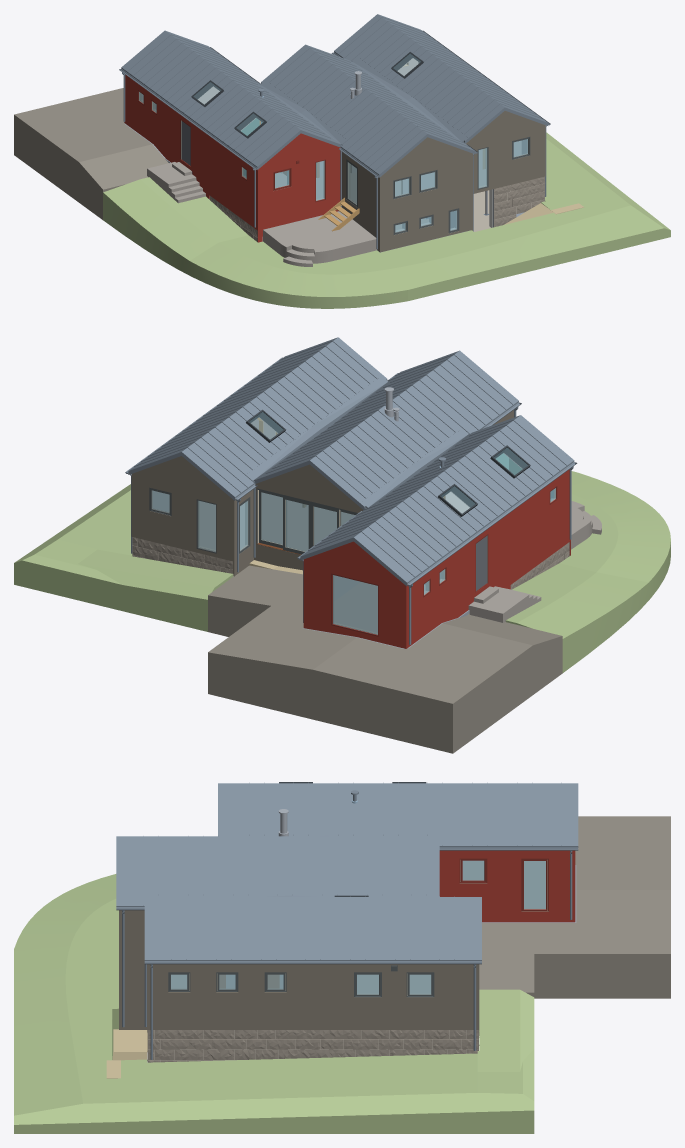
The model's file is trebodar.glb.
3 renders of one model, top to bottom at view 1: azimuth 30°, elevation 25°; view 2: azimuth 150°, elevation 25°; view 3: azimuth 270°, elevation 25°, orthographic. The views are drawn at different scales.
Parts seen in each view (by area): view 1: Uppfyllnad, Berg, 2NO-PA01, 1SO-PA01, 1NO-PA01, 3NO-PA01, Sovrumsavsats, 2SO-PA01, DB2-RD, DB4-RD, E-AV, BP-B (+8 smaller); view 2: Berg, Uppfyllnad, 1SO-PA01, 3SV-PA01, 1SV-PA01, MB-B, 2SV-PA01, 1SV-F1-GLAS, DB2-RD, DB4-RD, E-AV, 2SV-D1-SV-GLAS (+28 smaller); view 3: Uppfyllnad, Berg, 3NV-PA01, 1NV-PA01, 2NV-PA01, MB-B, FK-V9, 1NV-D1-GLAS, 2NV-TP02, 3NV-HR01, 1NV-TP02, 1NV-TP03 (+68 smaller).
Boxes of the visible parts, bbox=[...] form: Uppfyllnad: bbox=[103, 132, 670, 308]; Berg: bbox=[14, 88, 168, 219]; 2NO-PA01: bbox=[380, 137, 472, 252]; 1SO-PA01: bbox=[124, 75, 257, 241]; 1NO-PA01: bbox=[258, 133, 340, 242]; 3NO-PA01: bbox=[466, 111, 545, 193]; Sovrumsavsats: bbox=[263, 211, 376, 266]; 2SO-PA01: bbox=[342, 152, 379, 251]; DB2-RD: bbox=[348, 57, 467, 141]; DB4-RD: bbox=[255, 80, 346, 143]; E-AV: bbox=[147, 162, 196, 193]; BP-B: bbox=[395, 190, 490, 231]; Berg: bbox=[208, 565, 562, 753]; Uppfyllnad: bbox=[14, 471, 670, 672]; 1SO-PA01: bbox=[406, 469, 570, 648]; 3SV-PA01: bbox=[131, 456, 234, 576]; 1SV-PA01: bbox=[303, 541, 406, 648]; MB-B: bbox=[168, 493, 425, 632]; 2SV-PA01: bbox=[254, 464, 362, 570]; 1SV-F1-GLAS: bbox=[333, 575, 377, 634]; DB2-RD: bbox=[247, 376, 394, 479]; DB4-RD: bbox=[361, 429, 474, 507]; E-AV: bbox=[468, 586, 529, 622]; 2SV-D1-SV-GLAS: bbox=[285, 499, 308, 551]; Uppfyllnad: bbox=[14, 874, 534, 1133]; Berg: bbox=[479, 816, 670, 1030]; 3NV-PA01: bbox=[148, 964, 478, 1029]; 1NV-PA01: bbox=[439, 850, 574, 922]; 2NV-PA01: bbox=[119, 910, 147, 1029]; MB-B: bbox=[171, 861, 545, 993]; FK-V9: bbox=[106, 1029, 147, 1078]; 1NV-D1-GLAS: bbox=[524, 861, 545, 909]; 2NV-TP02: bbox=[129, 836, 143, 905]; 3NV-HR01: bbox=[144, 962, 481, 964]; 1NV-TP02: bbox=[442, 782, 457, 845]; 1NV-TP03: bbox=[457, 782, 472, 845].
Bounding box in the file's own units: 22.03 × 7.76 × 23.17.
